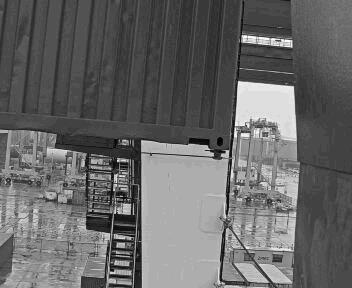twist_lock_1: (205, 143, 229, 164)
